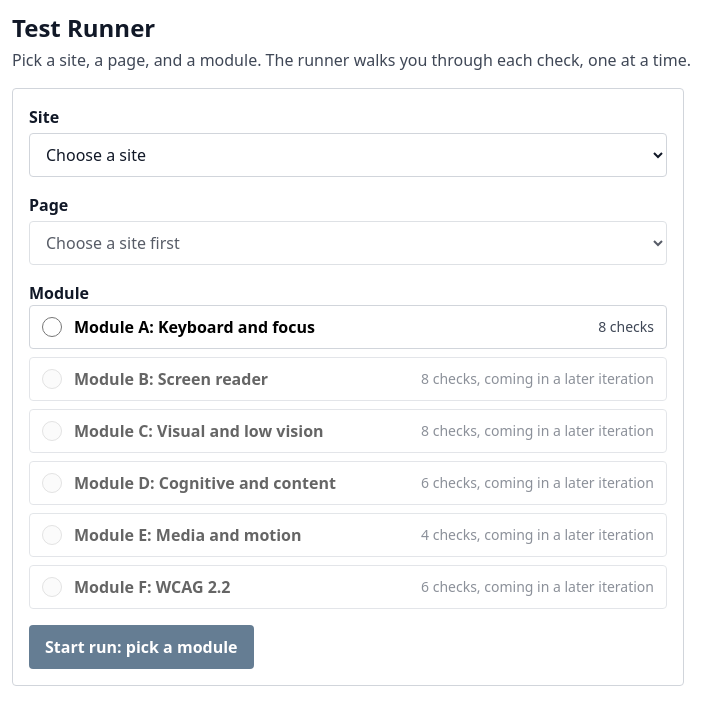
Test case: Test Runner setup › enables Start only when site, page, and an enabled module are set
Expected: the button "Start run: pick a module" is disabled, [29,625,254,669]
Select "Sample University Department (sample)" in the dropdown labelled "Site" at (348, 155), box [29,133,667,177]
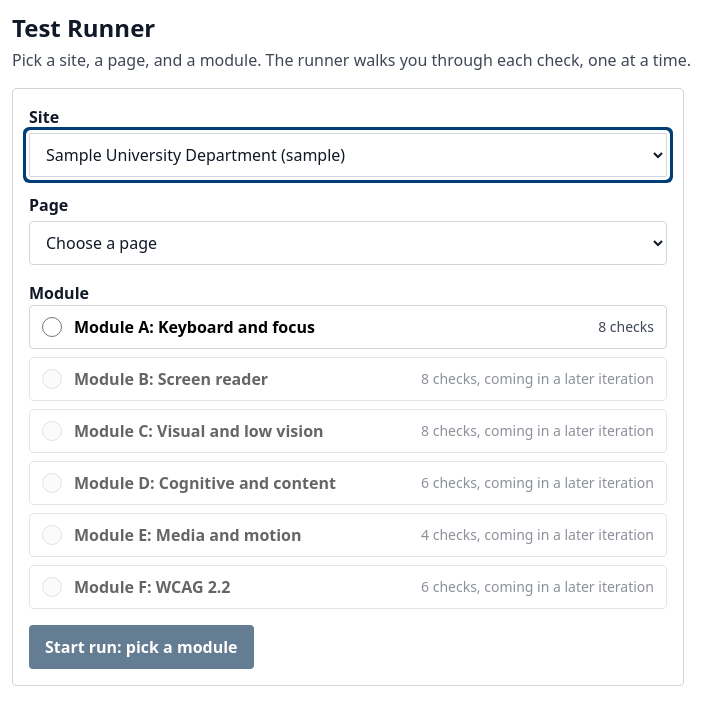
Select "Department home" in the dropdown labelled "Page" at (348, 243), box [29,221,667,265]
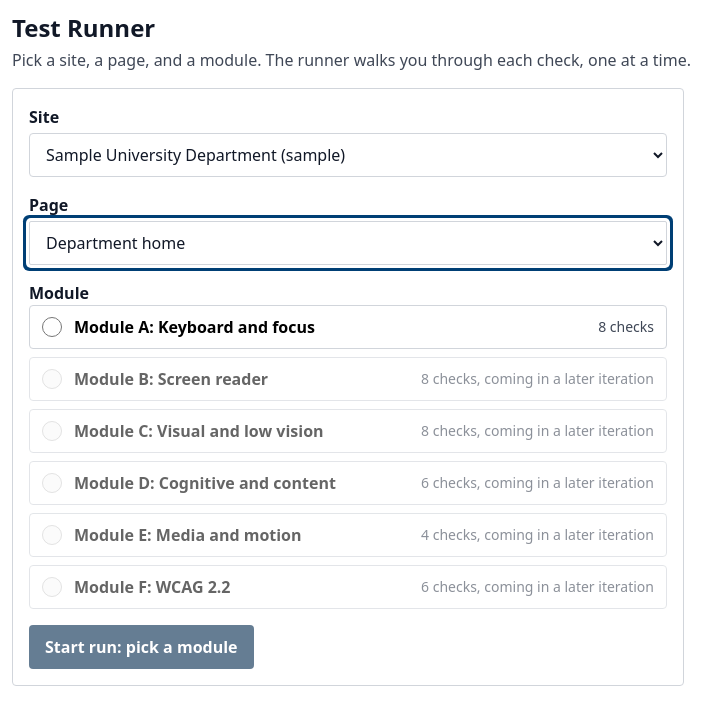
Click the radio button labelled "Module A: Keyboard and focus 8 checks" at (52, 327), box [42,317,62,337]
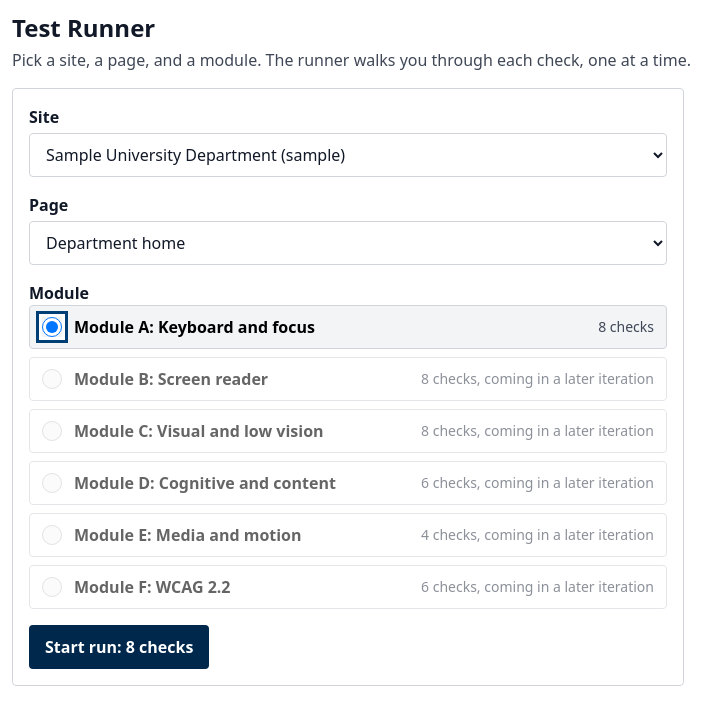
Expected: the button "Start run: 8 checks" is enabled, [29,625,209,669]
